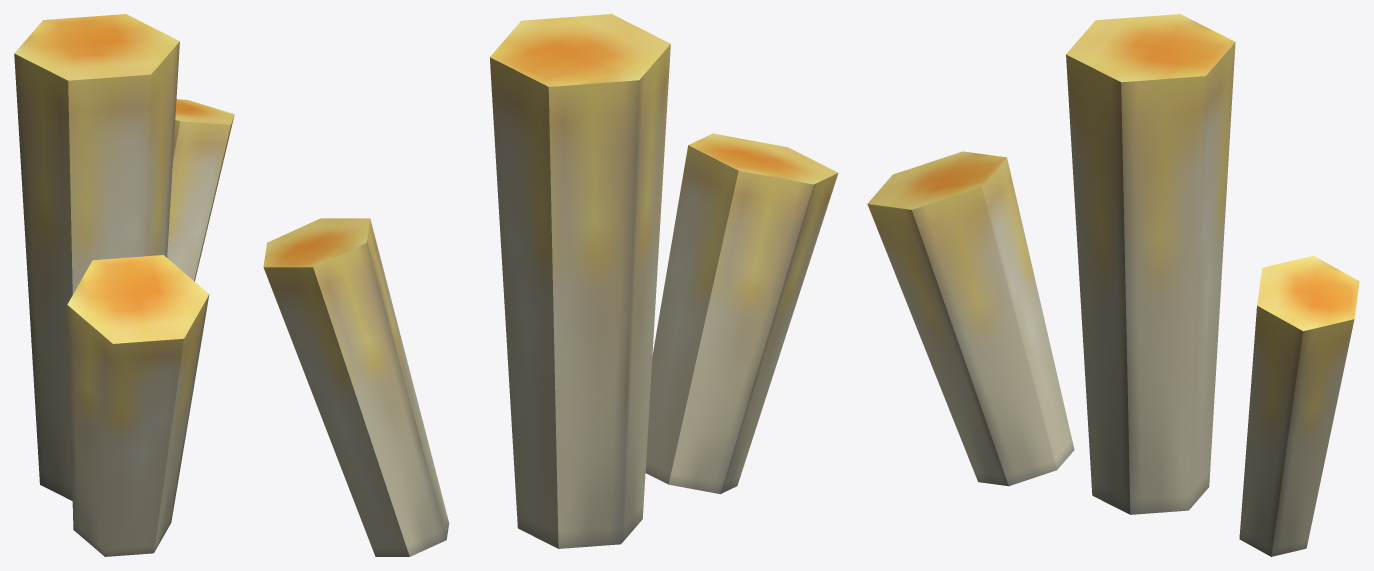
Rendered from Area_11_21.fbx.
3 views of the same model, side by side, from view 1: azimuth 30°, elevation 25°; view 2: azimuth 150°, elevation 25°; view 3: azimuth 270°, elevation 25° (orthographic). The views are drawn at different scales.
Parts seen in each view (by area): view 1: Area_11_21; view 2: Area_11_21; view 3: Area_11_21.
Part boxes in pixels (x1,y1,x2,y2): Area_11_21: (14,14,234,556); Area_11_21: (263,14,838,556); Area_11_21: (867,14,1359,556).
Size of the model in its own units: 43.42 by 54.37 by 54.19.
